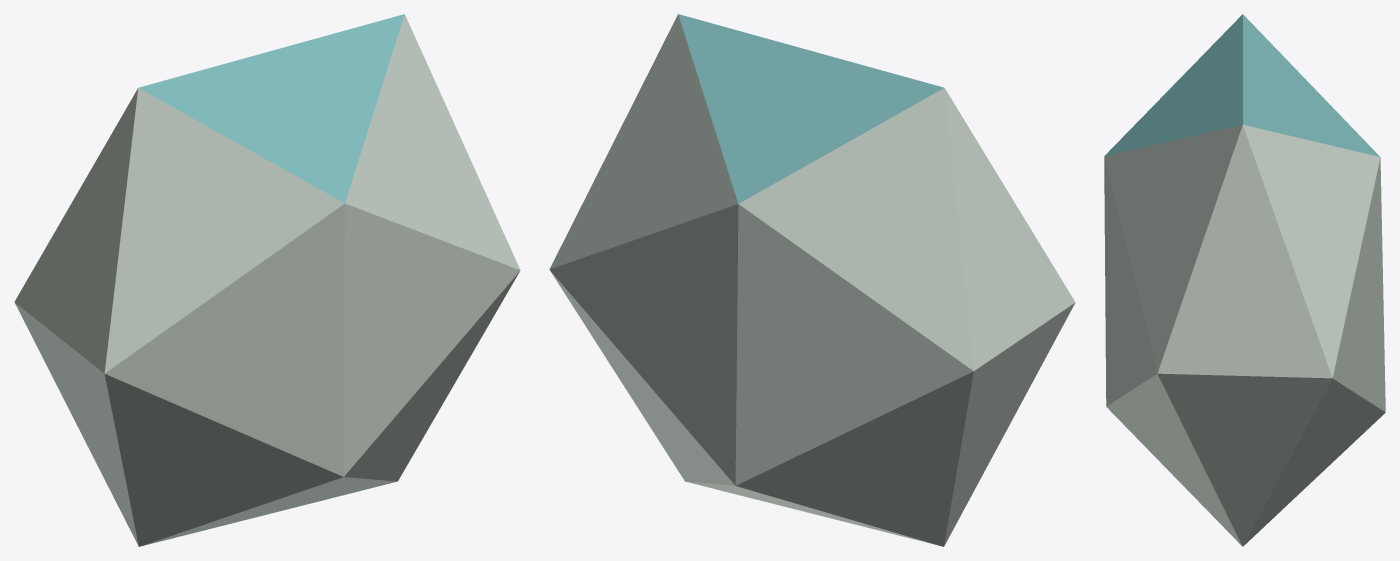
Rendered from ice_shard.gltf.
The picture shows the model from 3 angles, left to right: view 1: azimuth 30°, elevation 25°; view 2: azimuth 150°, elevation 25°; view 3: azimuth 270°, elevation 25°; orthographic projection. The views are drawn at different scales.
Visible parts, largest first — view 1: rock; view 2: rock; view 3: rock.
Part boxes in pixels (bbox=[...]): rock: bbox=[14, 14, 520, 546]; rock: bbox=[549, 14, 1075, 546]; rock: bbox=[1104, 14, 1385, 546].
Bounding box in the file's own units: 5.39 × 5.62 × 3.36.
